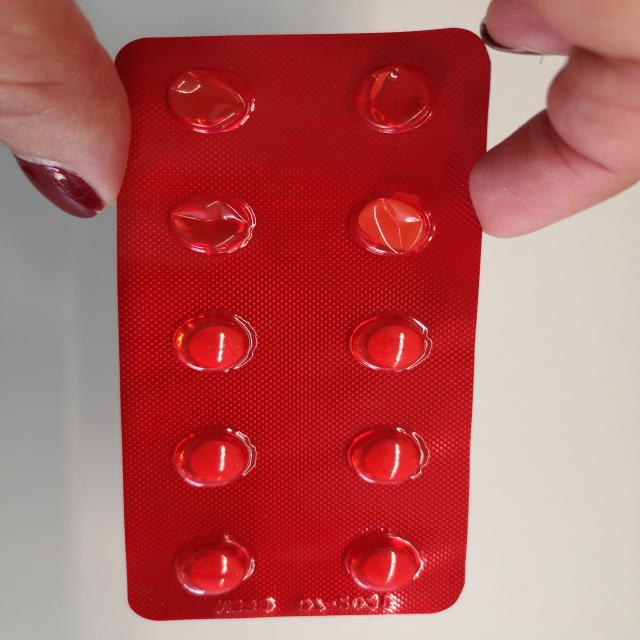Empty: (155, 187, 264, 268), (339, 60, 452, 137), (157, 60, 265, 140), (339, 186, 438, 266)
Pill: (161, 418, 269, 493), (339, 306, 436, 386), (165, 302, 268, 376), (336, 524, 430, 598), (340, 419, 428, 492), (164, 532, 258, 600)
